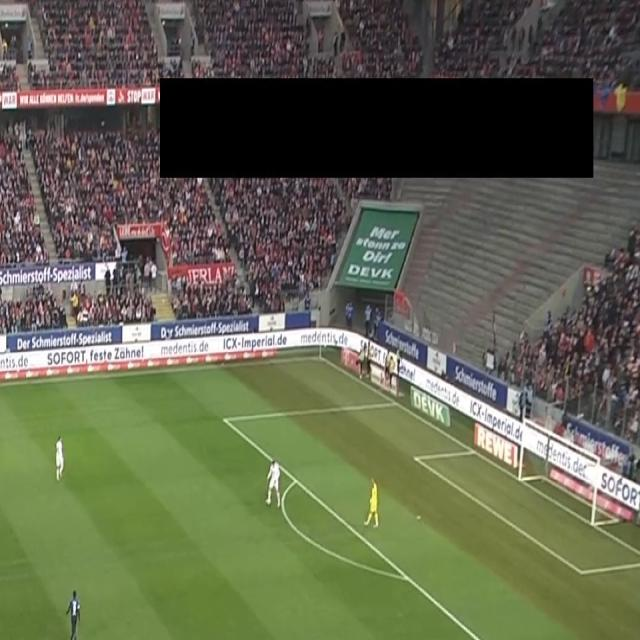ball: (265, 497, 271, 508)
